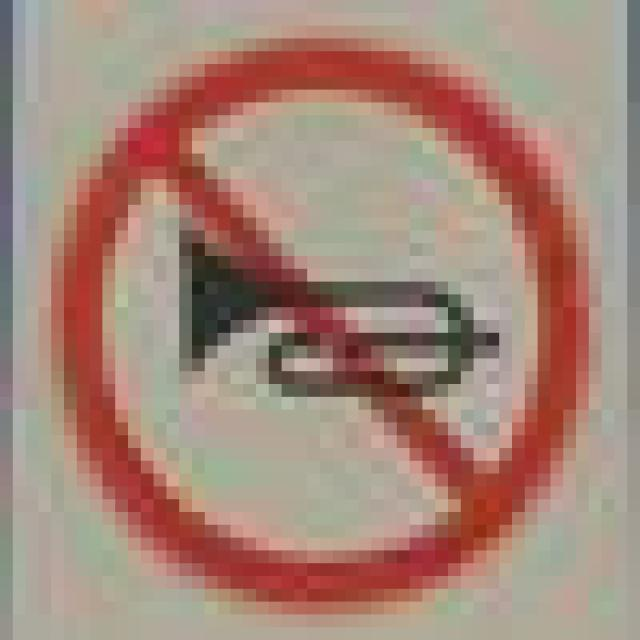horn prohibited: (55, 34, 594, 602)
